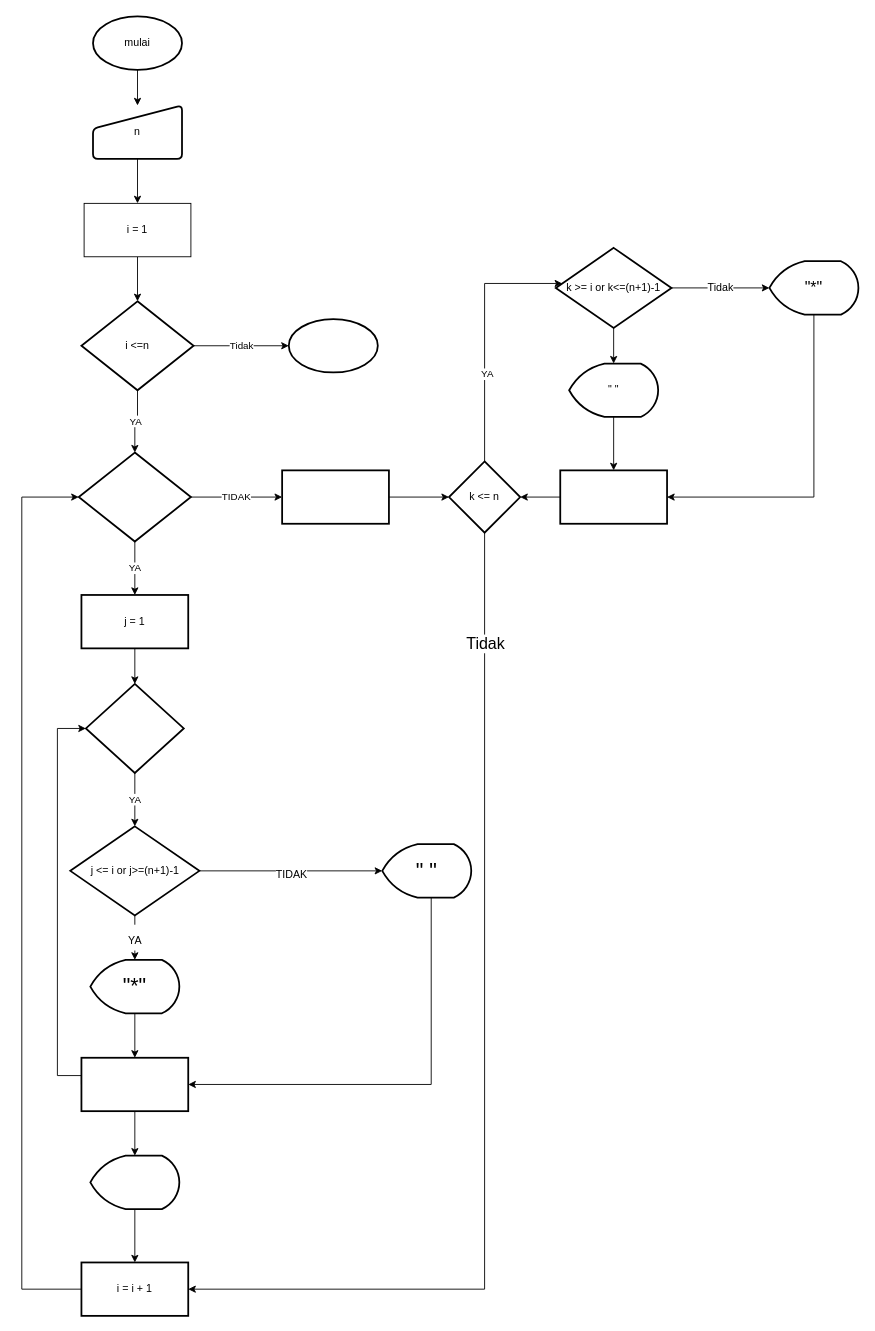
Some shapes in this 875 by 1331 pixel diagram are drawn without their labels. Each missing label, with the box of its shape:
/n: (89, 1154, 180, 1210)
i <= (n/2) + 1: (77, 451, 191, 542)
j <= n: (85, 683, 184, 773)
j = j + 1: (80, 1056, 189, 1112)
k + 1: (559, 469, 668, 524)
k = 1: (281, 469, 389, 524)
selesai: (287, 318, 378, 373)
